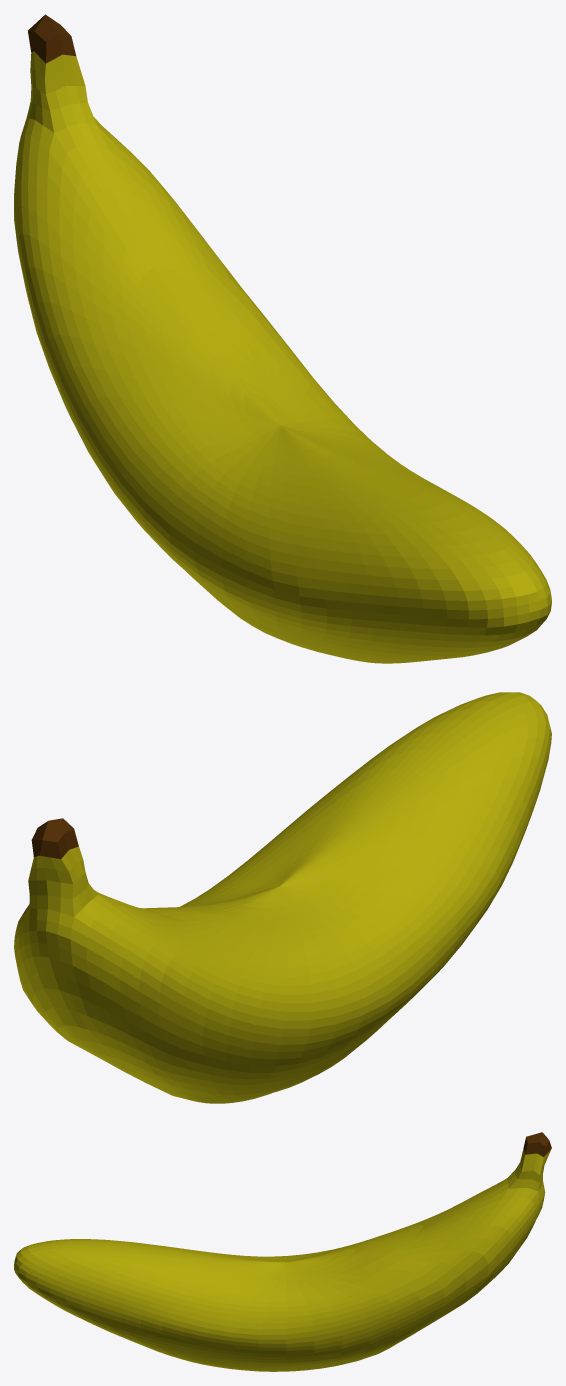
Rendered from Banana.fbx.
3 views of the same model, one above another, from view 1: azimuth 30°, elevation 25°; view 2: azimuth 150°, elevation 25°; view 3: azimuth 270°, elevation 25° (orthographic). The views are drawn at different scales.
Visible parts, largest first — view 1: Sphere, Sphere.001; view 2: Sphere, Sphere.001; view 3: Sphere, Sphere.001.
Part boxes in pixels (x1,y1,x2,y2): Sphere: (14, 51, 551, 663); Sphere.001: (28, 14, 76, 63); Sphere: (14, 692, 551, 1103); Sphere.001: (31, 818, 78, 859); Sphere: (14, 1148, 551, 1371); Sphere.001: (523, 1132, 551, 1156).
Bounding box in the file's own units: 49.81 × 89.99 × 190.
